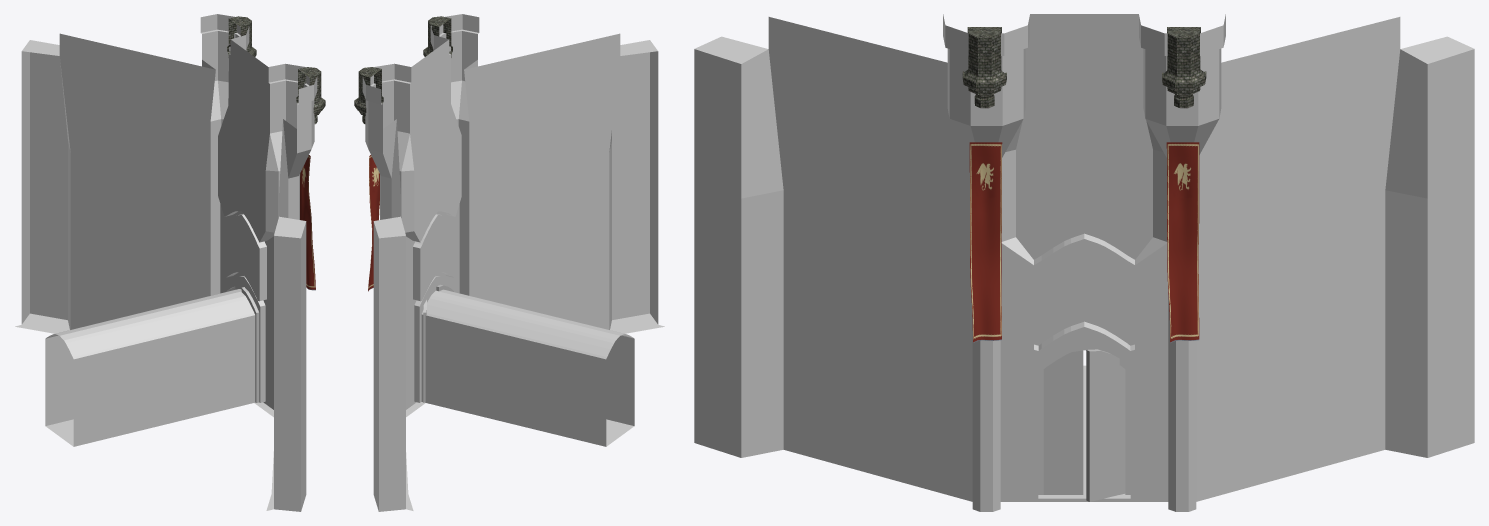
File: ELCASTELO.fbx
3 views of the same model, side by side, from view 1: azimuth 30°, elevation 25°; view 2: azimuth 150°, elevation 25°; view 3: azimuth 270°, elevation 25° (orthographic). The views are drawn at different scales.
Parts seen in each view (by area): view 1: Cube.006, Plane.014, Cube.050, Cube.048, Cube.049; view 2: Cube.006, Plane.015, Cube.049, Cube.050; view 3: Cube.006, Plane.015, Plane.014, Cube.029, Cube.048, Cube.050, Cube.049.
Boxes of the visible parts, <box> form: Cube.006: <box>15,14,317,511</box>; Plane.014: <box>300,155,315,290</box>; Cube.050: <box>296,67,325,124</box>; Cube.048: <box>241,287,259,402</box>; Cube.049: <box>227,16,256,57</box>; Cube.006: <box>362,14,664,511</box>; Plane.015: <box>368,155,379,291</box>; Cube.049: <box>354,67,383,123</box>; Cube.050: <box>423,16,452,57</box>; Cube.006: <box>694,14,1474,511</box>; Plane.015: <box>1166,142,1199,342</box>; Plane.014: <box>969,142,1002,342</box>; Cube.029: <box>1086,349,1125,501</box>; Cube.048: <box>1043,350,1083,494</box>; Cube.050: <box>962,27,1006,108</box>; Cube.049: <box>1162,27,1206,108</box>.
Size of the model in its own units: 1922 by 2728 by 3950.
